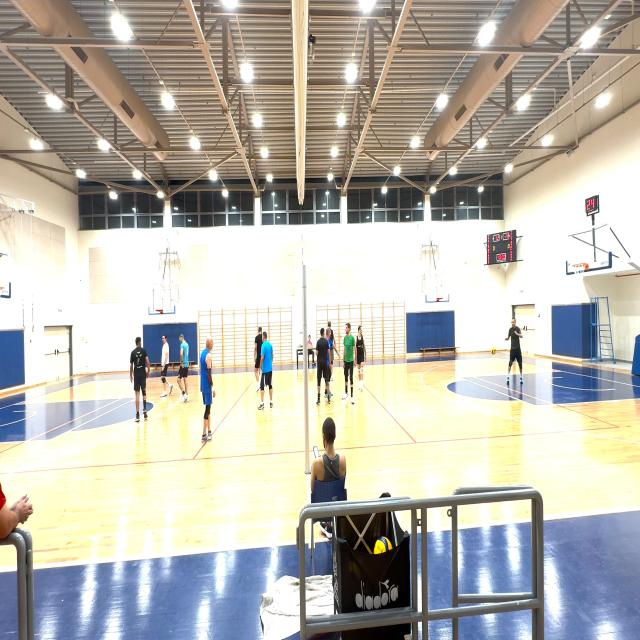volleyball: (373, 536, 393, 555), (491, 346, 496, 355)
